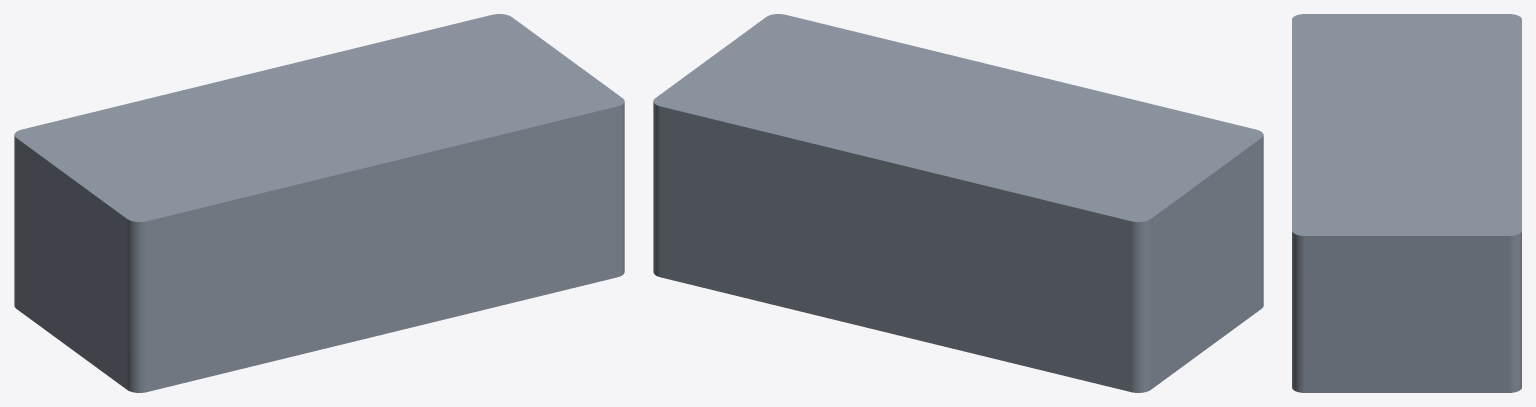
The model's file is step_01.glb.
The picture shows the model from 3 angles, left to right: view 1: azimuth 30°, elevation 25°; view 2: azimuth 150°, elevation 25°; view 3: azimuth 270°, elevation 25°; orthographic projection. The views are drawn at different scales.
Parts seen in each view (by area): view 1: part__cylinder block (deck); view 2: part__cylinder block (deck); view 3: part__cylinder block (deck).
Part boxes in pixels (<box>): part__cylinder block (deck): <box>14,14,624,392</box>; part__cylinder block (deck): <box>653,14,1263,392</box>; part__cylinder block (deck): <box>1292,14,1521,392</box>.
Size of the model in its own units: 546 by 180 by 239.
